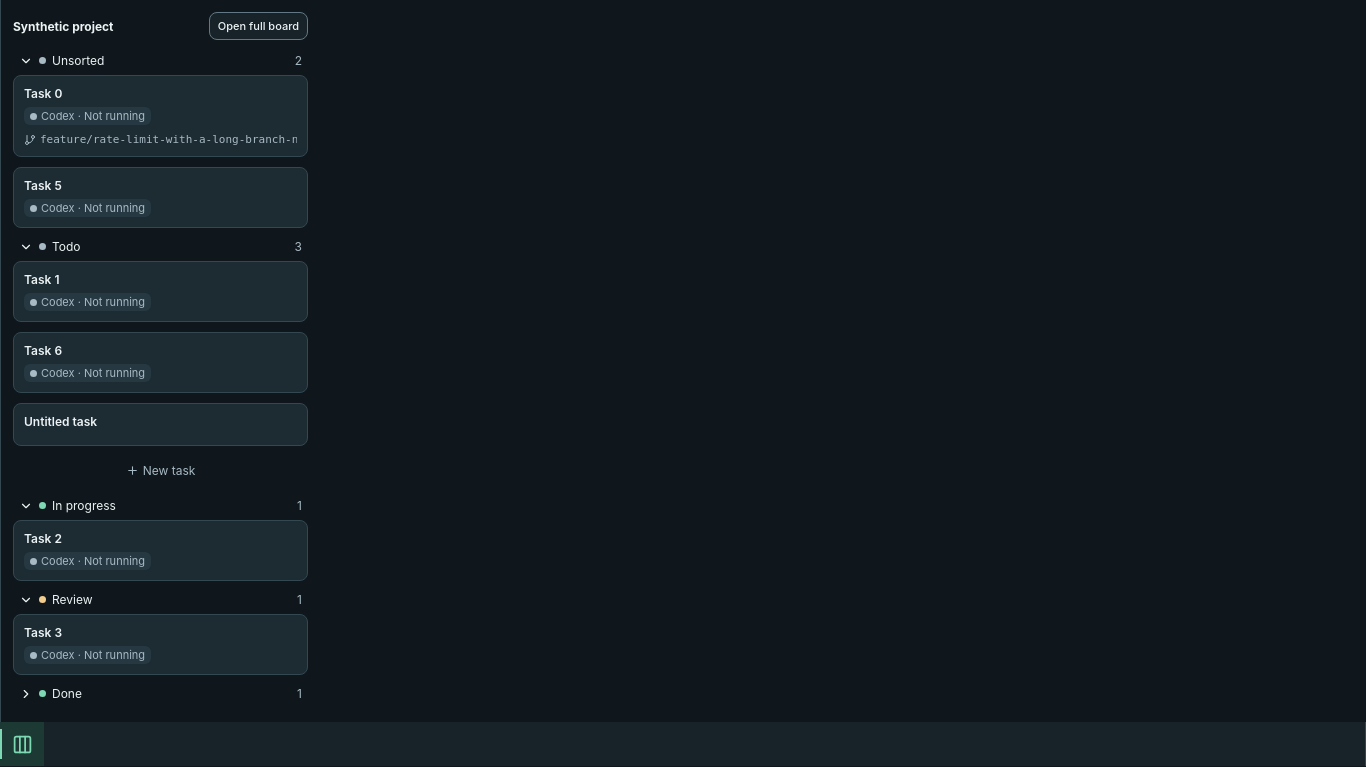
it: board activity contribution › quick-add creates on Enter, cancels on Escape, and respects composition
The width and height of the screenshot is (1366, 767).
Expected: the button "Open full board" is shown, [209,12,308,40]
Click the button "New task": (160, 470) [23,462,298,479]
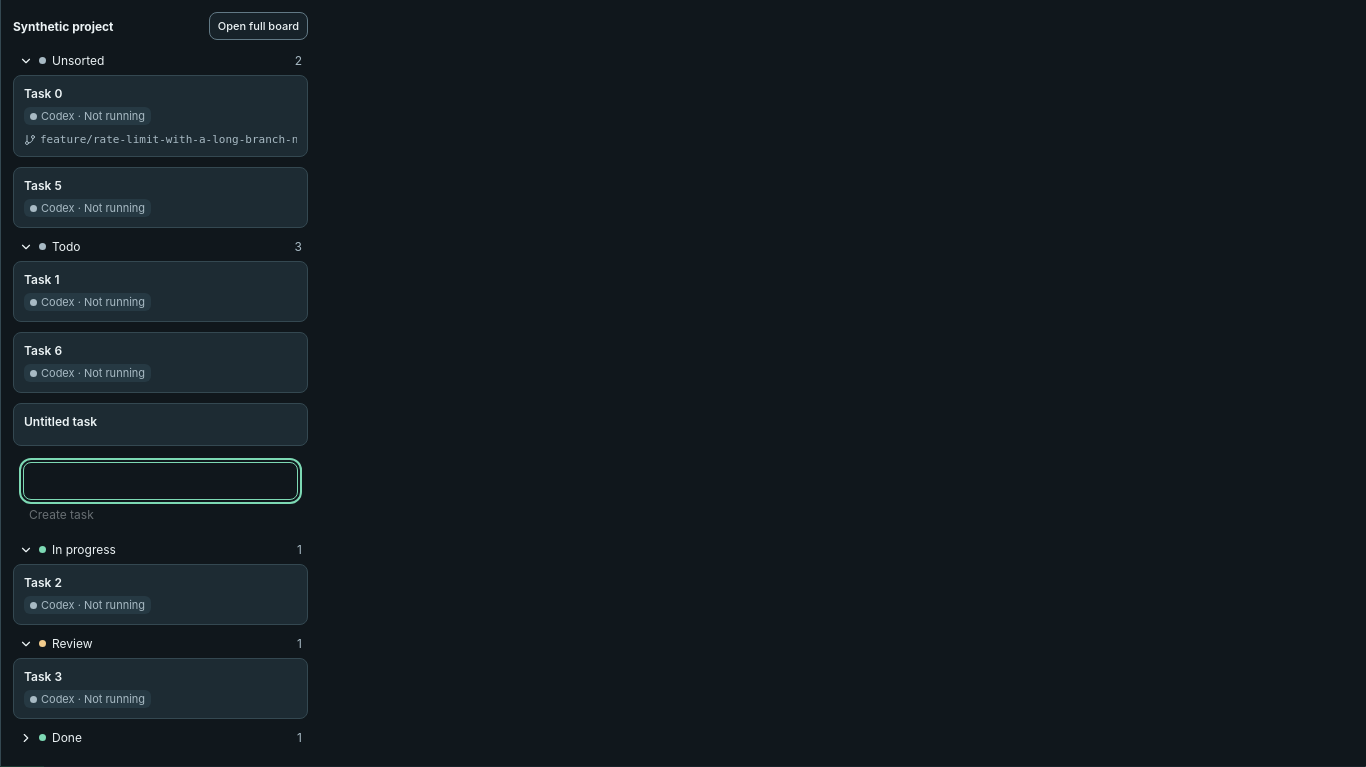
In the field named "Task title": (160, 481) [23,462,298,500], type "Plan a small change"
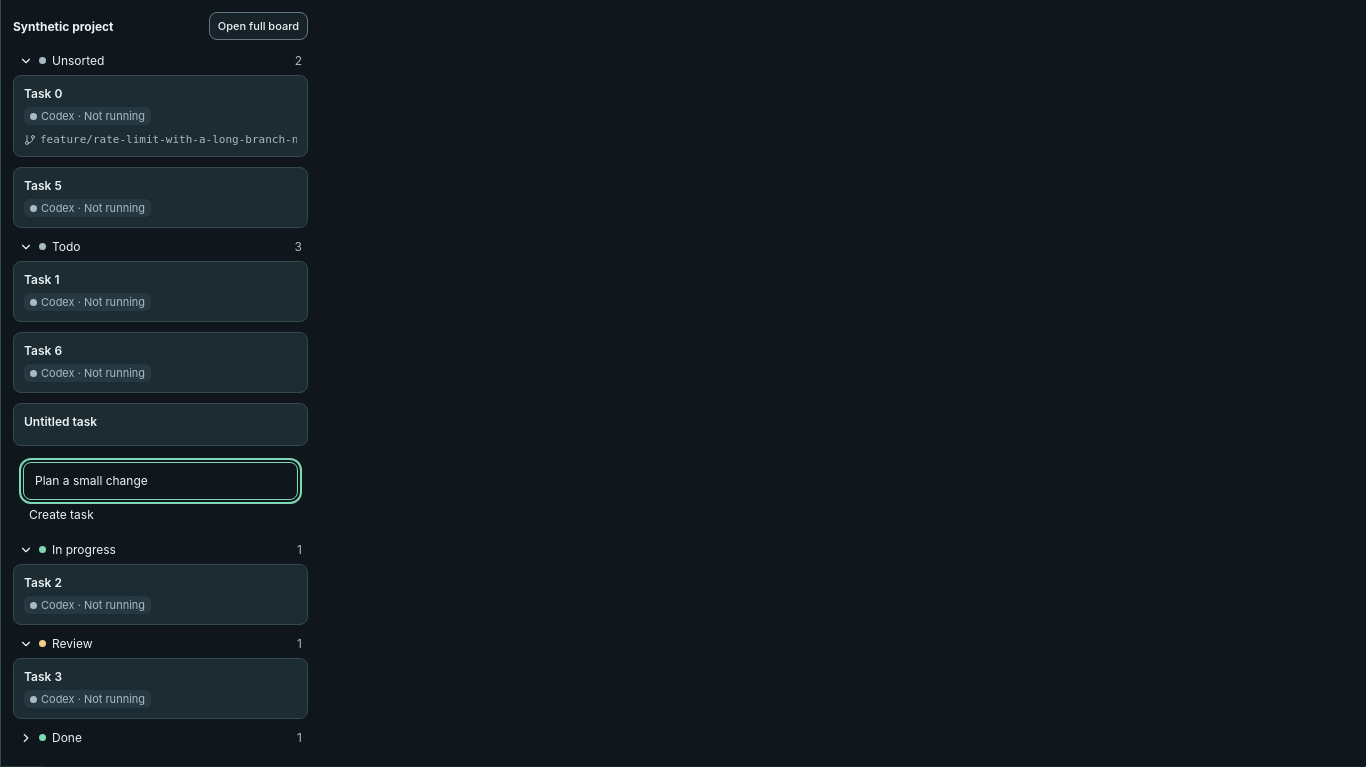
Press Enter in the field named "Task title", box [23,462,298,500]
Press Enter
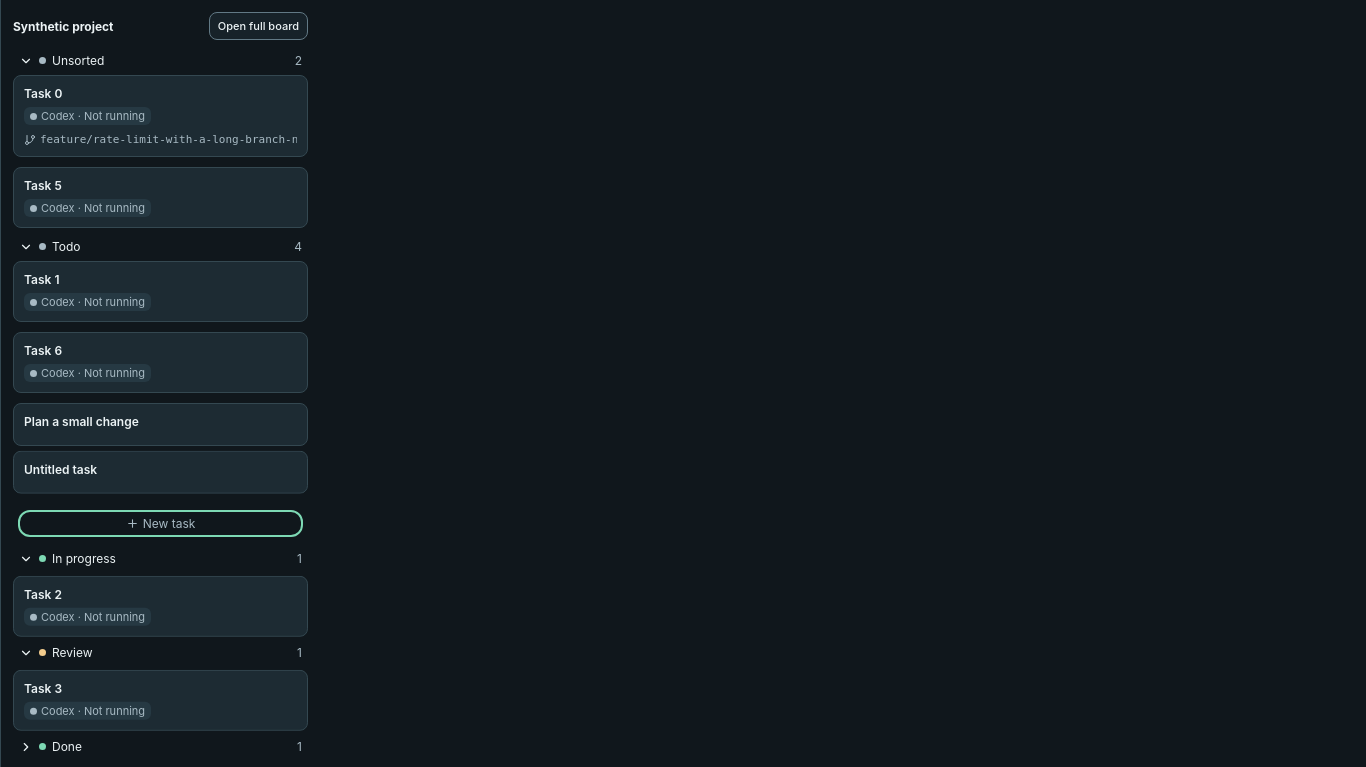
Now the button "Plan a small change" is shown, box [24,414,297,429]
Click the button "New task": (160, 524) [23,515,298,532]
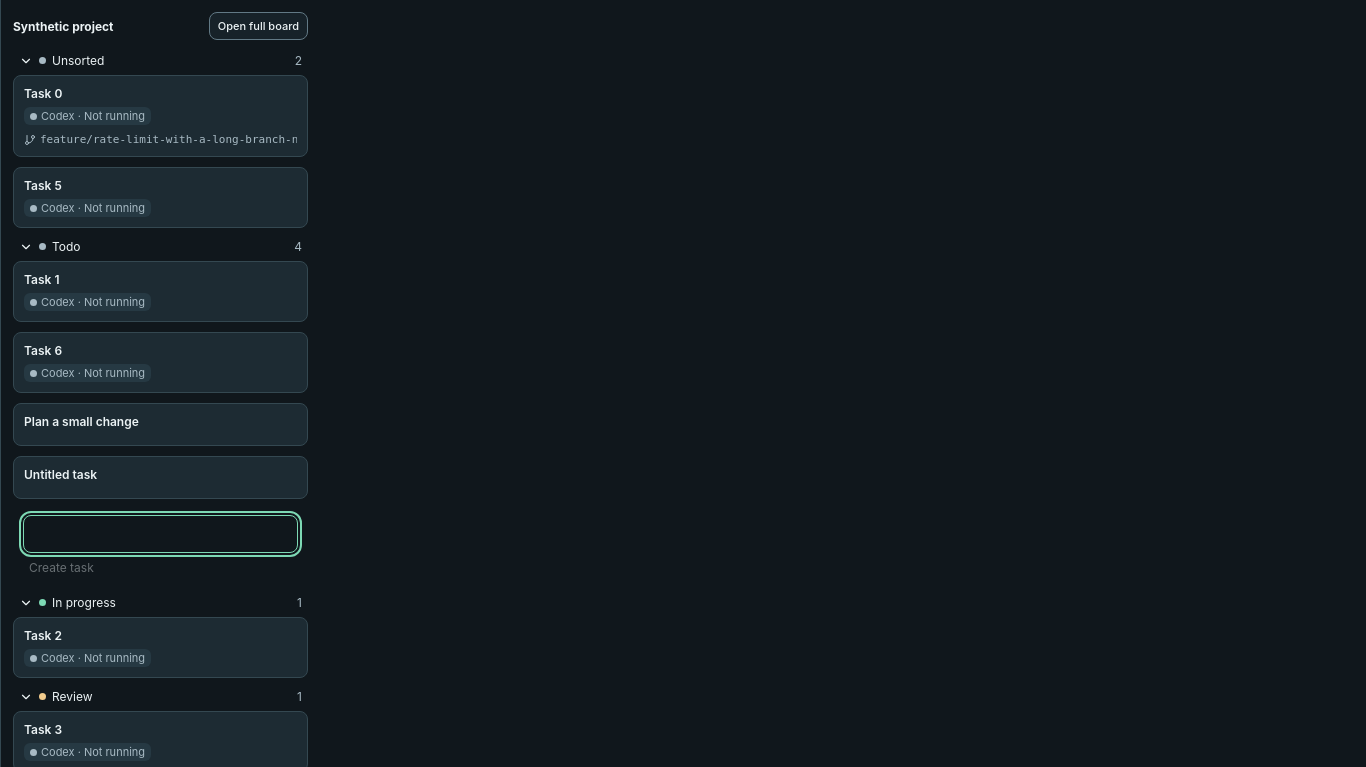
Press Escape in the field, box [23,515,298,553]
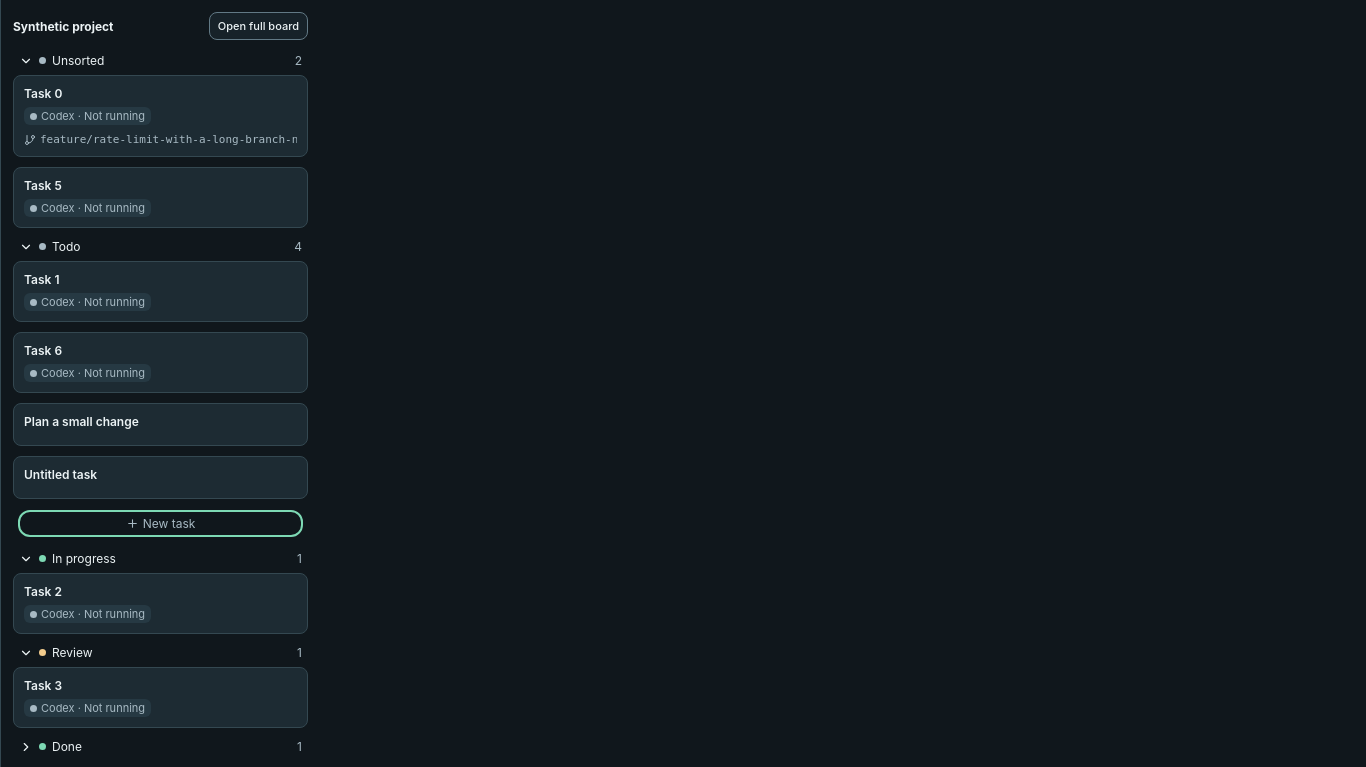
Now the field is gone
